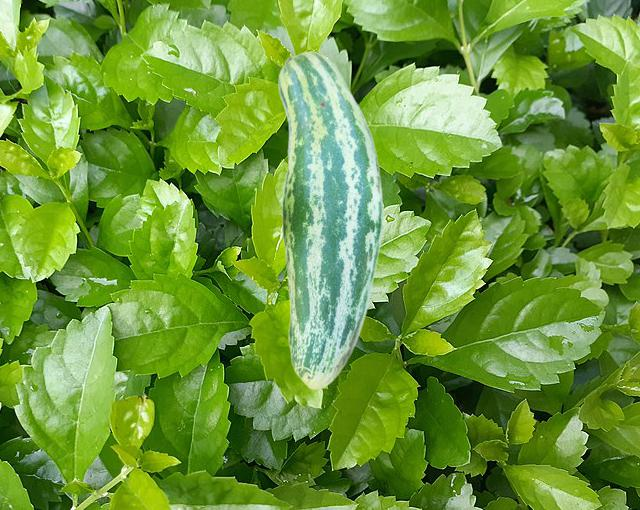cucumber: (277, 50, 382, 389)
